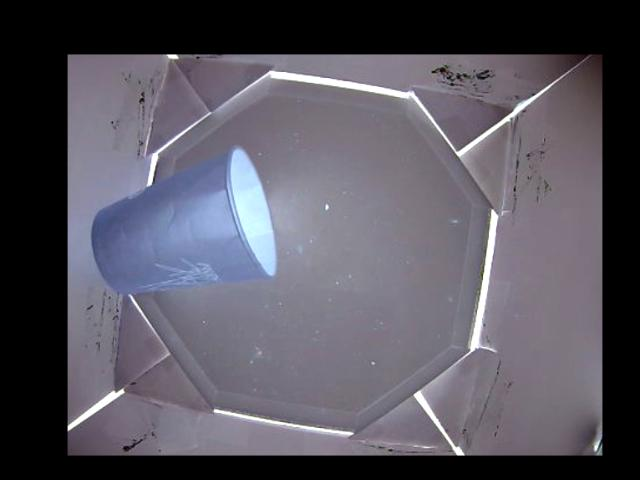Cup: (91, 144, 275, 291)
